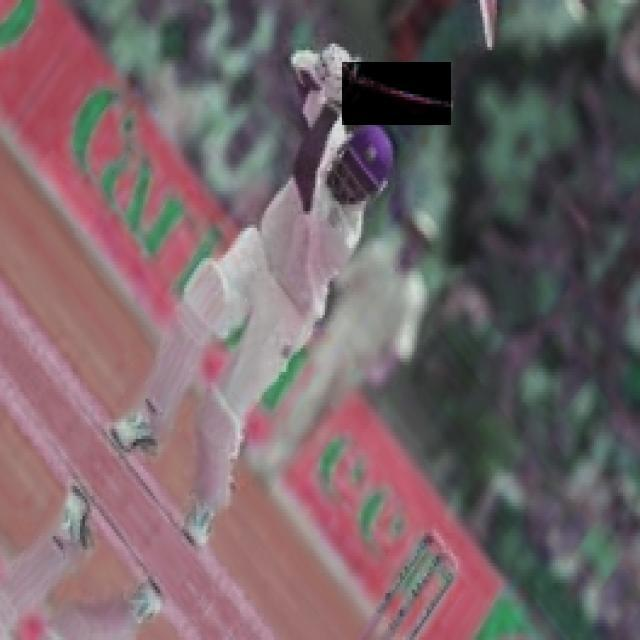bat: (344, 63, 453, 124)
